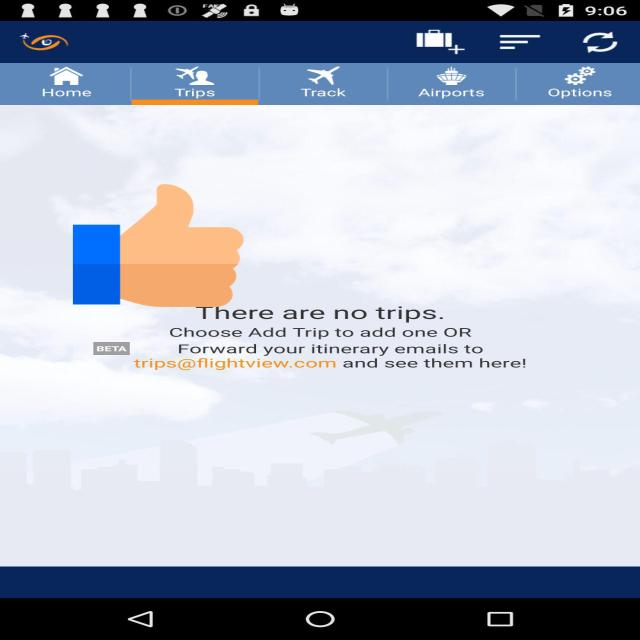privacy zuckering: (73, 181, 243, 310)
